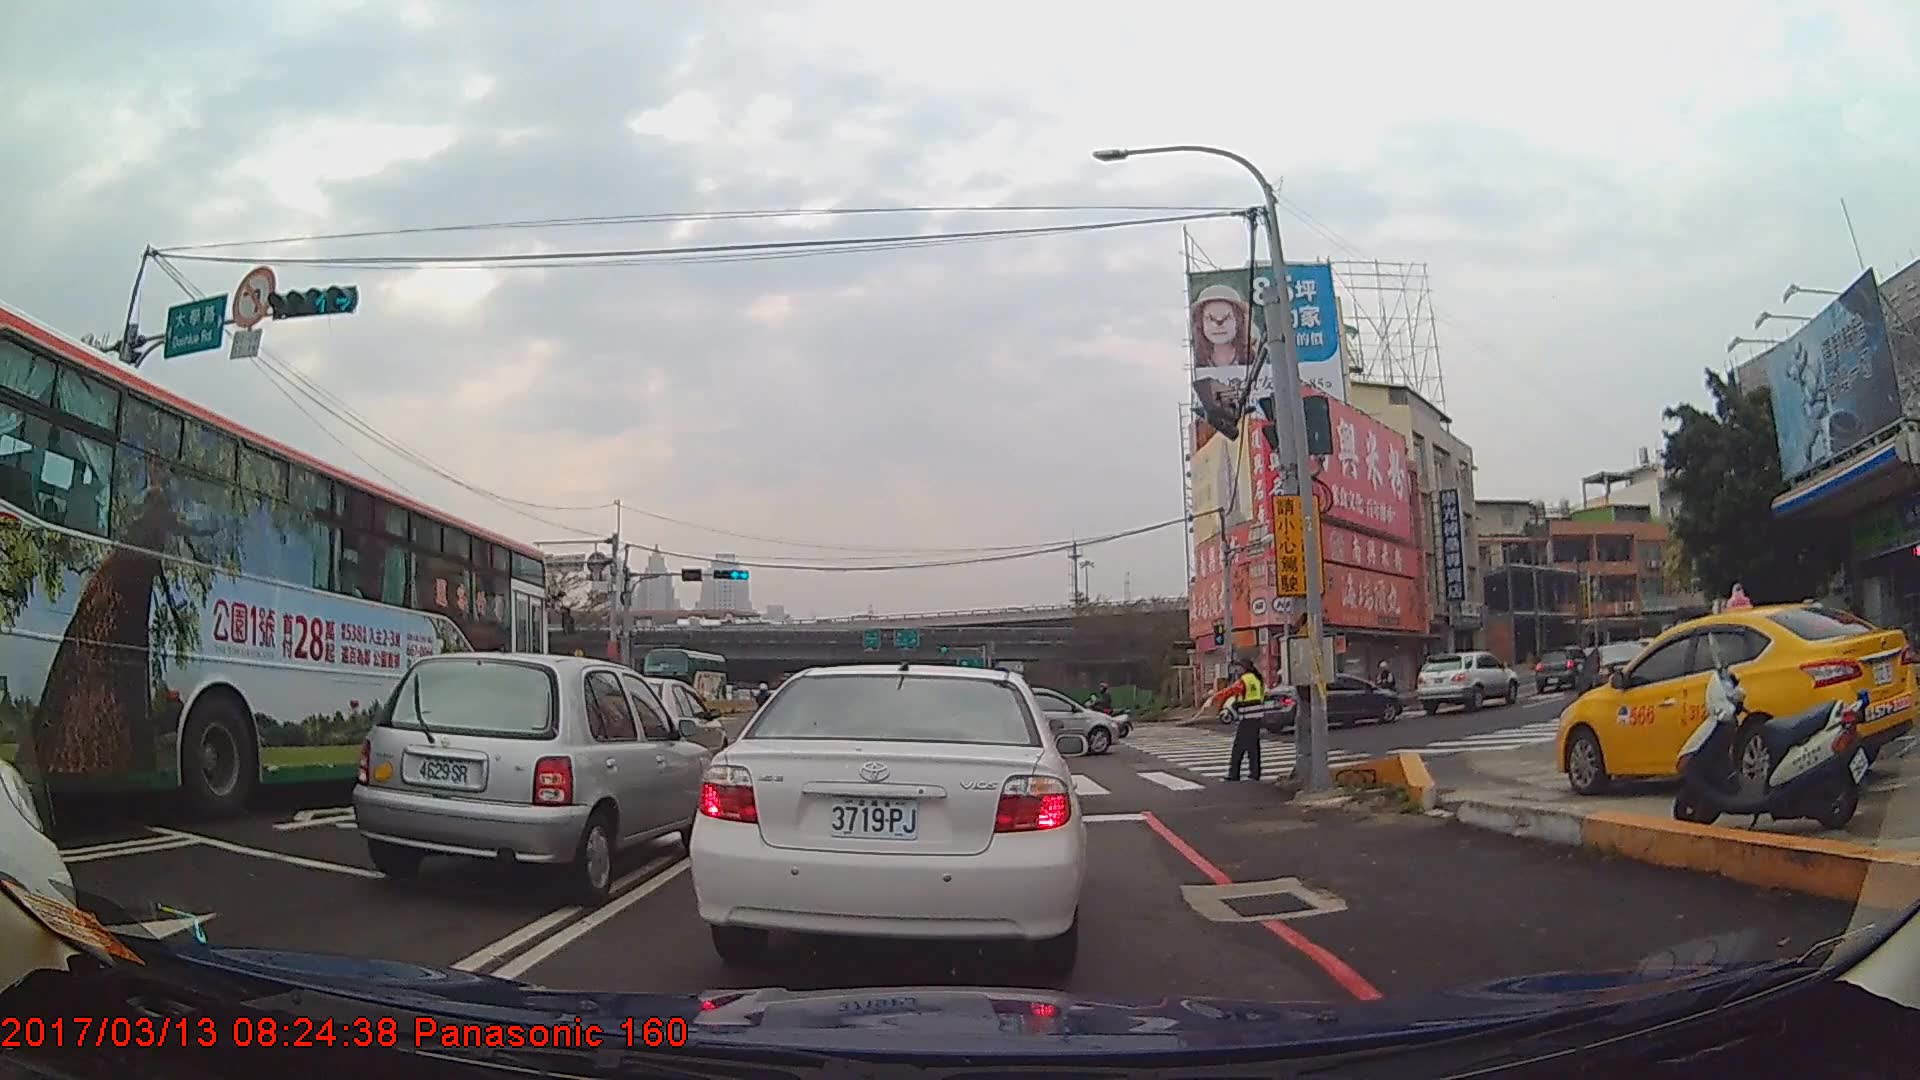pedestrian: (1191, 658, 1268, 789)
rider: (1367, 661, 1399, 712)
vehicle: (0, 297, 546, 816), (685, 659, 1086, 967), (349, 649, 718, 903), (1554, 600, 1917, 795), (959, 685, 1120, 757), (1256, 670, 1401, 735), (1415, 649, 1519, 712), (1578, 639, 1657, 707), (643, 645, 726, 707), (1534, 646, 1589, 692)
